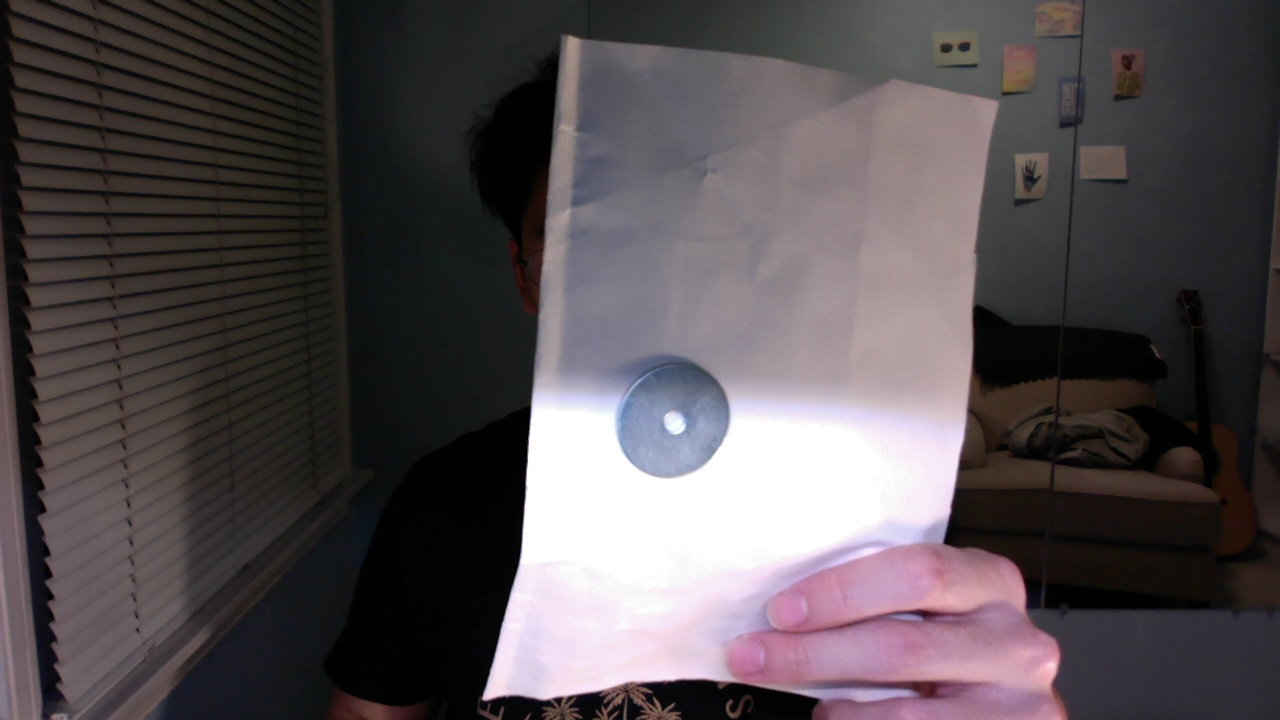NonDetectiveWashers: (618, 362, 729, 478)
